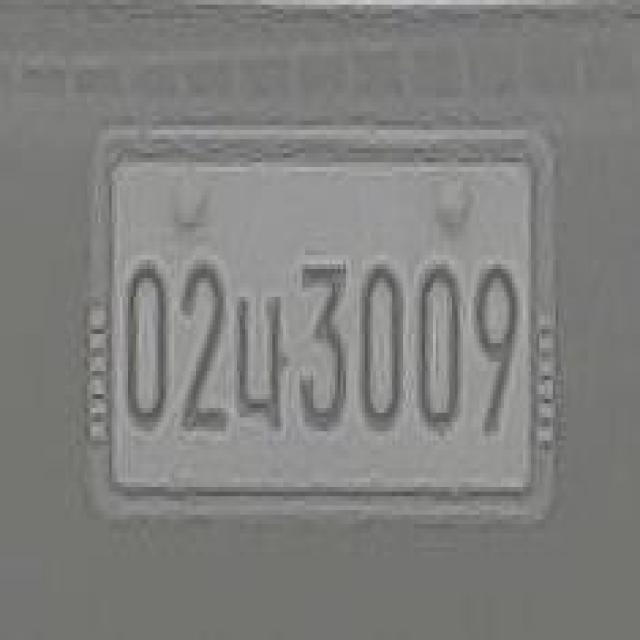illegal_plate: (94, 125, 546, 538)
